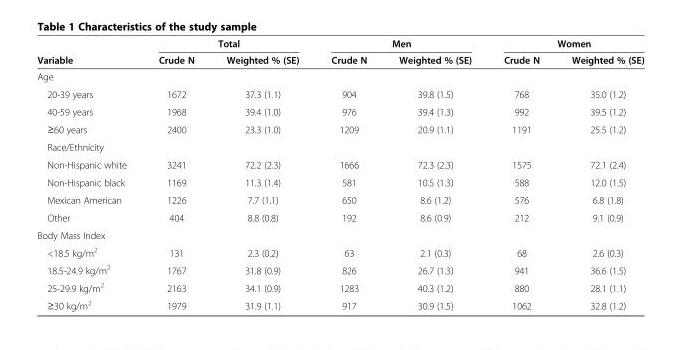table: (36, 37, 643, 311)
table column: (36, 37, 141, 311), (209, 37, 314, 311), (382, 37, 487, 311), (554, 37, 643, 311), (141, 37, 209, 311), (314, 37, 382, 311), (487, 37, 554, 311)
table column header: (36, 37, 643, 67)
table projected row header: (36, 67, 643, 85), (36, 137, 643, 155), (36, 226, 643, 243)
table row: (36, 67, 643, 85), (36, 102, 643, 120), (36, 137, 643, 155), (36, 155, 643, 173), (36, 190, 643, 208), (36, 208, 643, 226), (36, 260, 643, 278), (36, 85, 643, 102), (36, 120, 643, 137), (36, 173, 643, 190), (36, 226, 643, 243), (36, 243, 643, 260), (36, 278, 643, 295), (36, 51, 643, 67), (36, 295, 643, 311), (36, 37, 643, 51)
table spanning cell: (36, 37, 141, 67), (141, 37, 314, 51), (314, 37, 487, 51), (487, 37, 643, 51)
